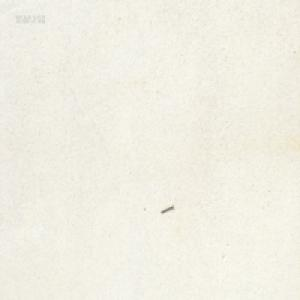Bolt: (159, 205, 173, 214)
